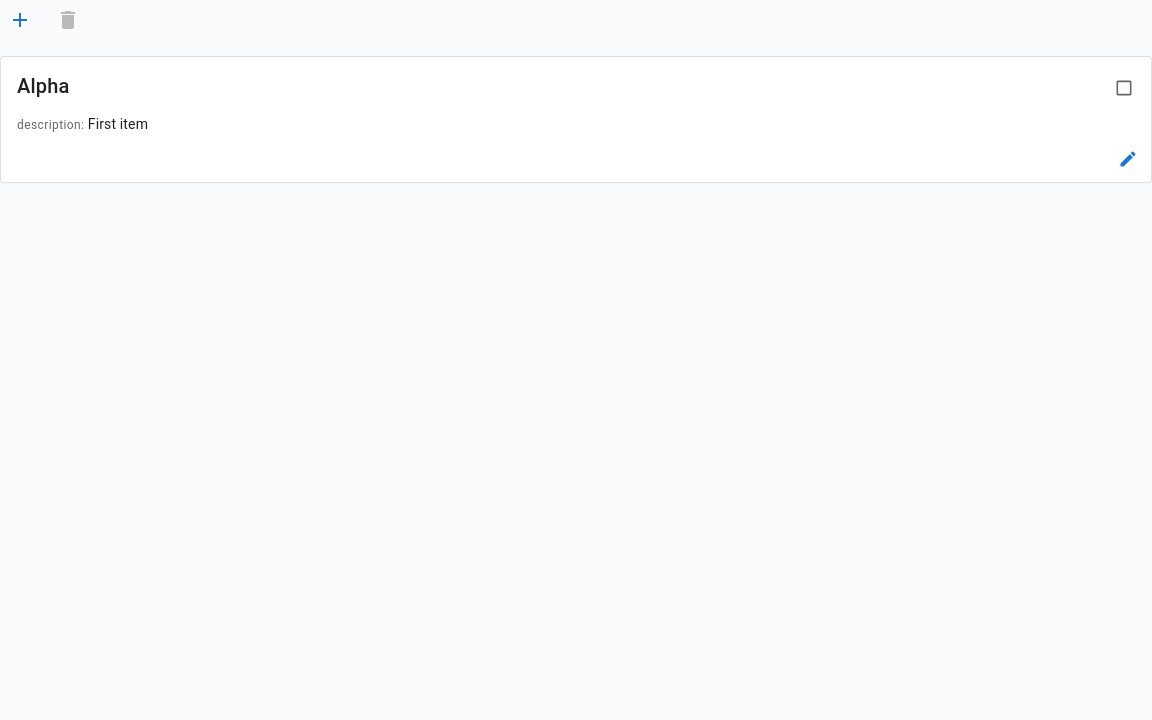
CardListClient › Delete › closes the dialog after confirming deletion
This screenshot has width=1152, height=720.
Click the checkbox named "Select Alpha": (1124, 88) [1114,78,1134,98]
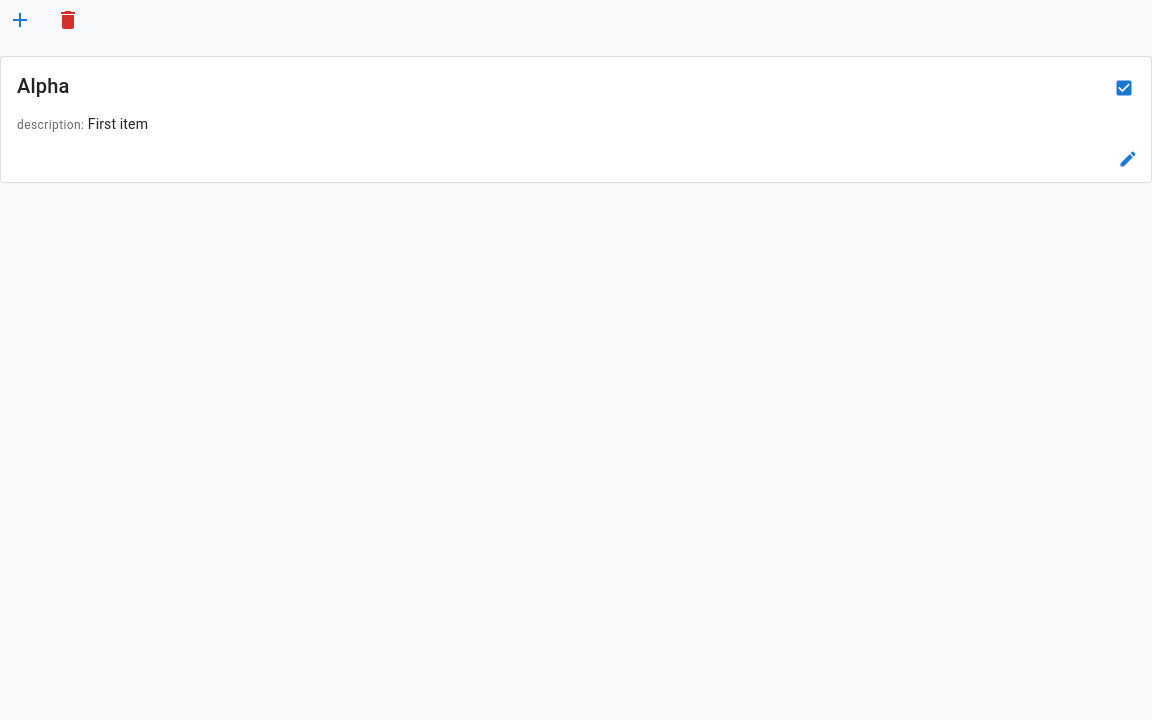
Click the button named "Delete Selected": (68, 20) [48,0,88,40]
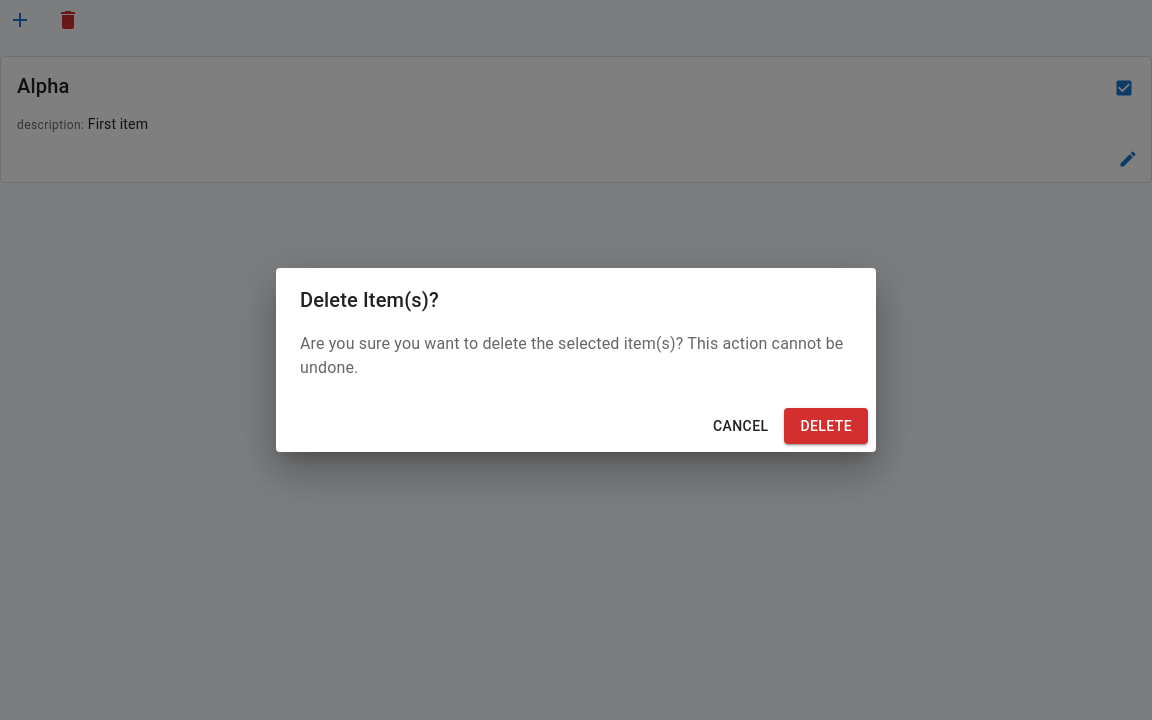
Now the heading "Delete Item(s)?" is shown, box [300,288,439,312]
Click the button "Delete": (826, 426) [784,408,868,444]
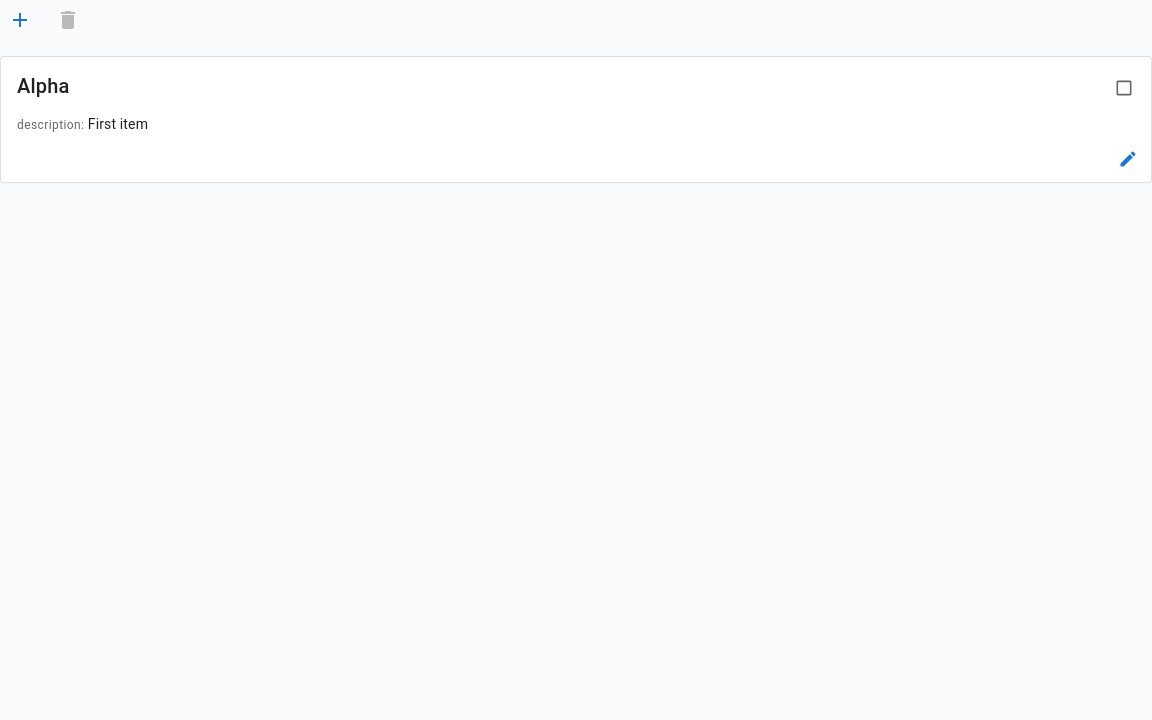
Now the heading "Delete Item(s)?" is gone
